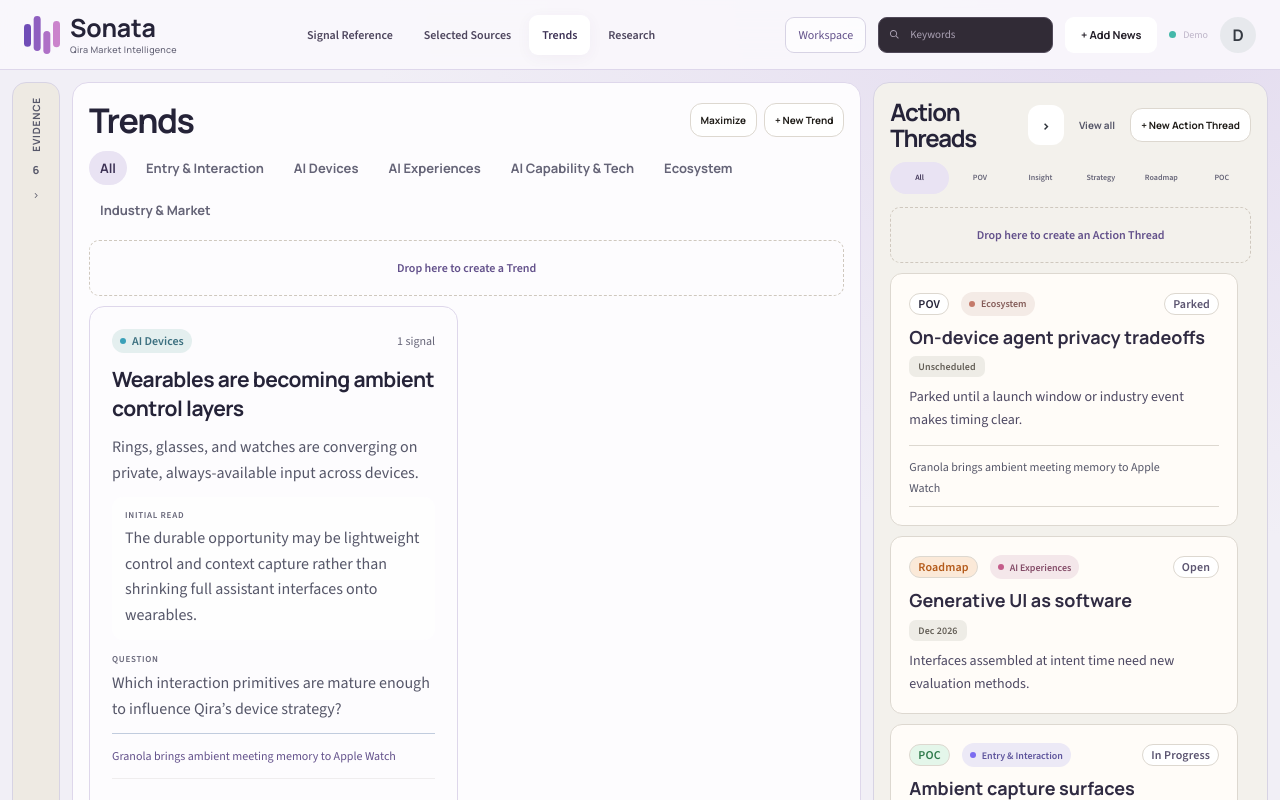
Scenario: dashboard pilot shell › archives a Trend with its Evidence and keeps both recoverable
Step 1. Click the button "Wearables are becoming ambient control layers" → [274, 394], box [112,365,435,422]
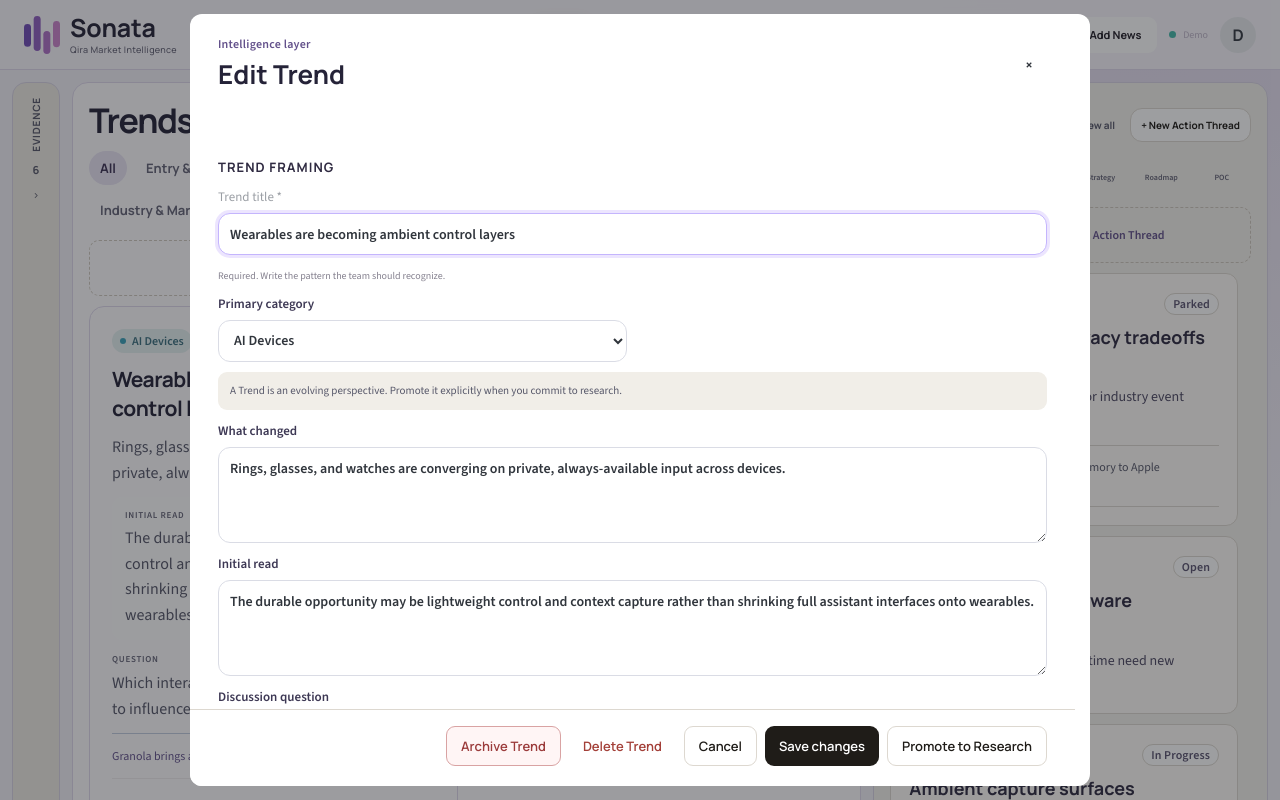
Step 2. Click the button "Archive Trend" → [503, 746], box [446,726,561,766]
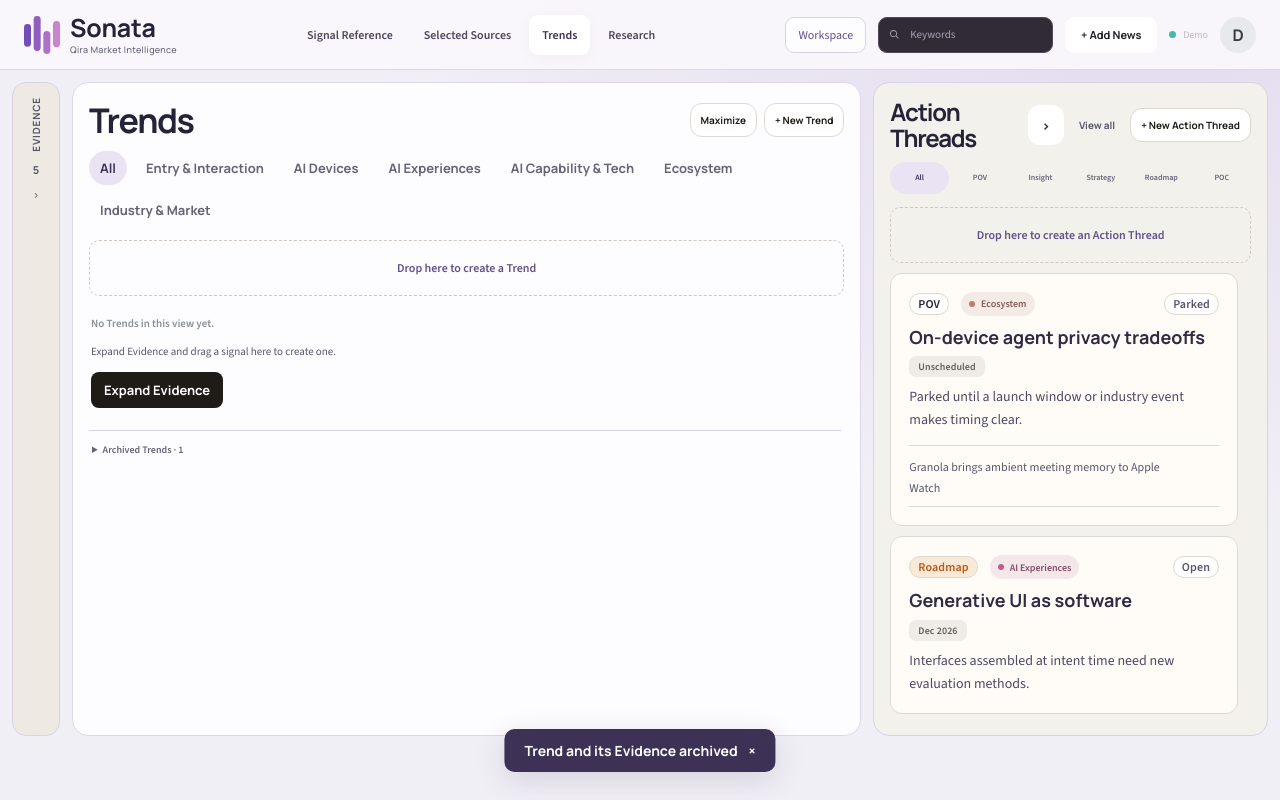
expect the heading "Archived Trends · 1" is shown: met, box [103,444,183,456]
Step 3. Click the button with aria-label "Expand Evidence" → [36, 409], box [12,82,60,736]
(page scrolled)
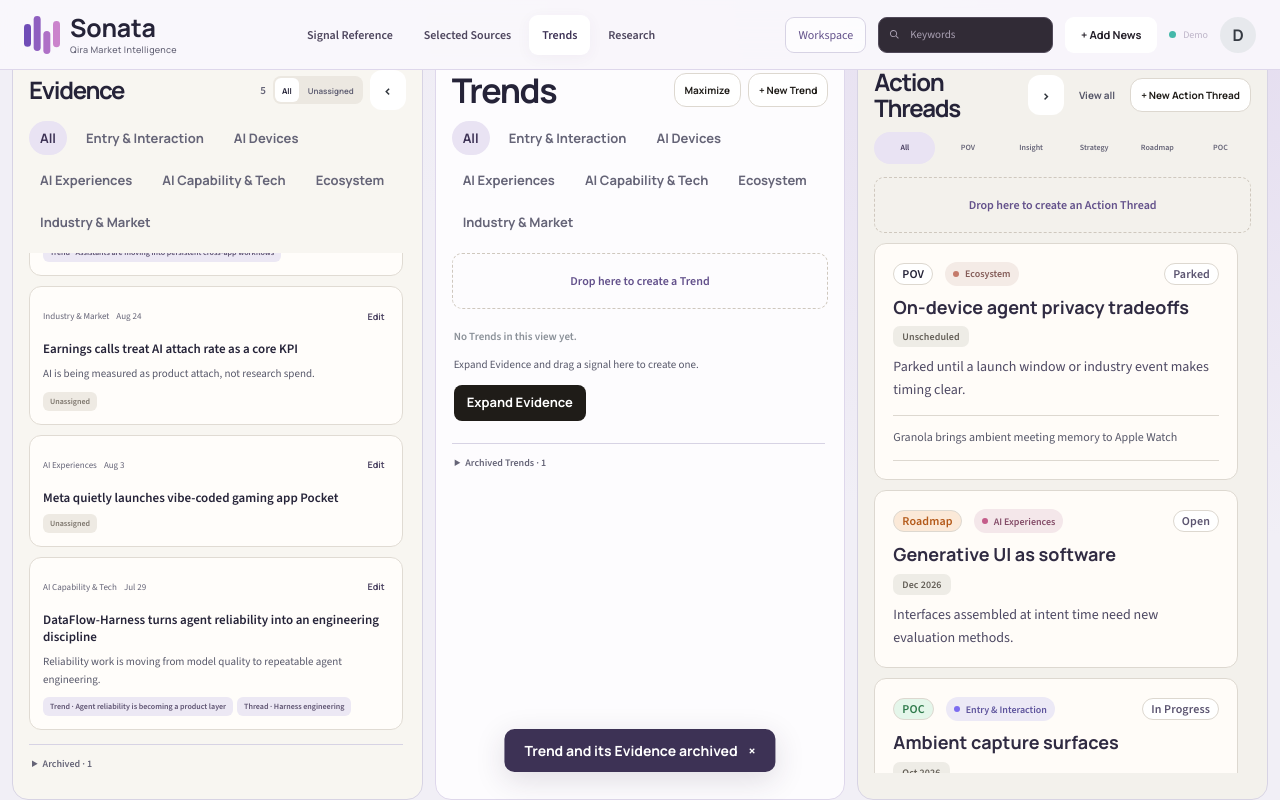
expect the heading "Archived · 1" is shown: met, box [43,757,92,770]
